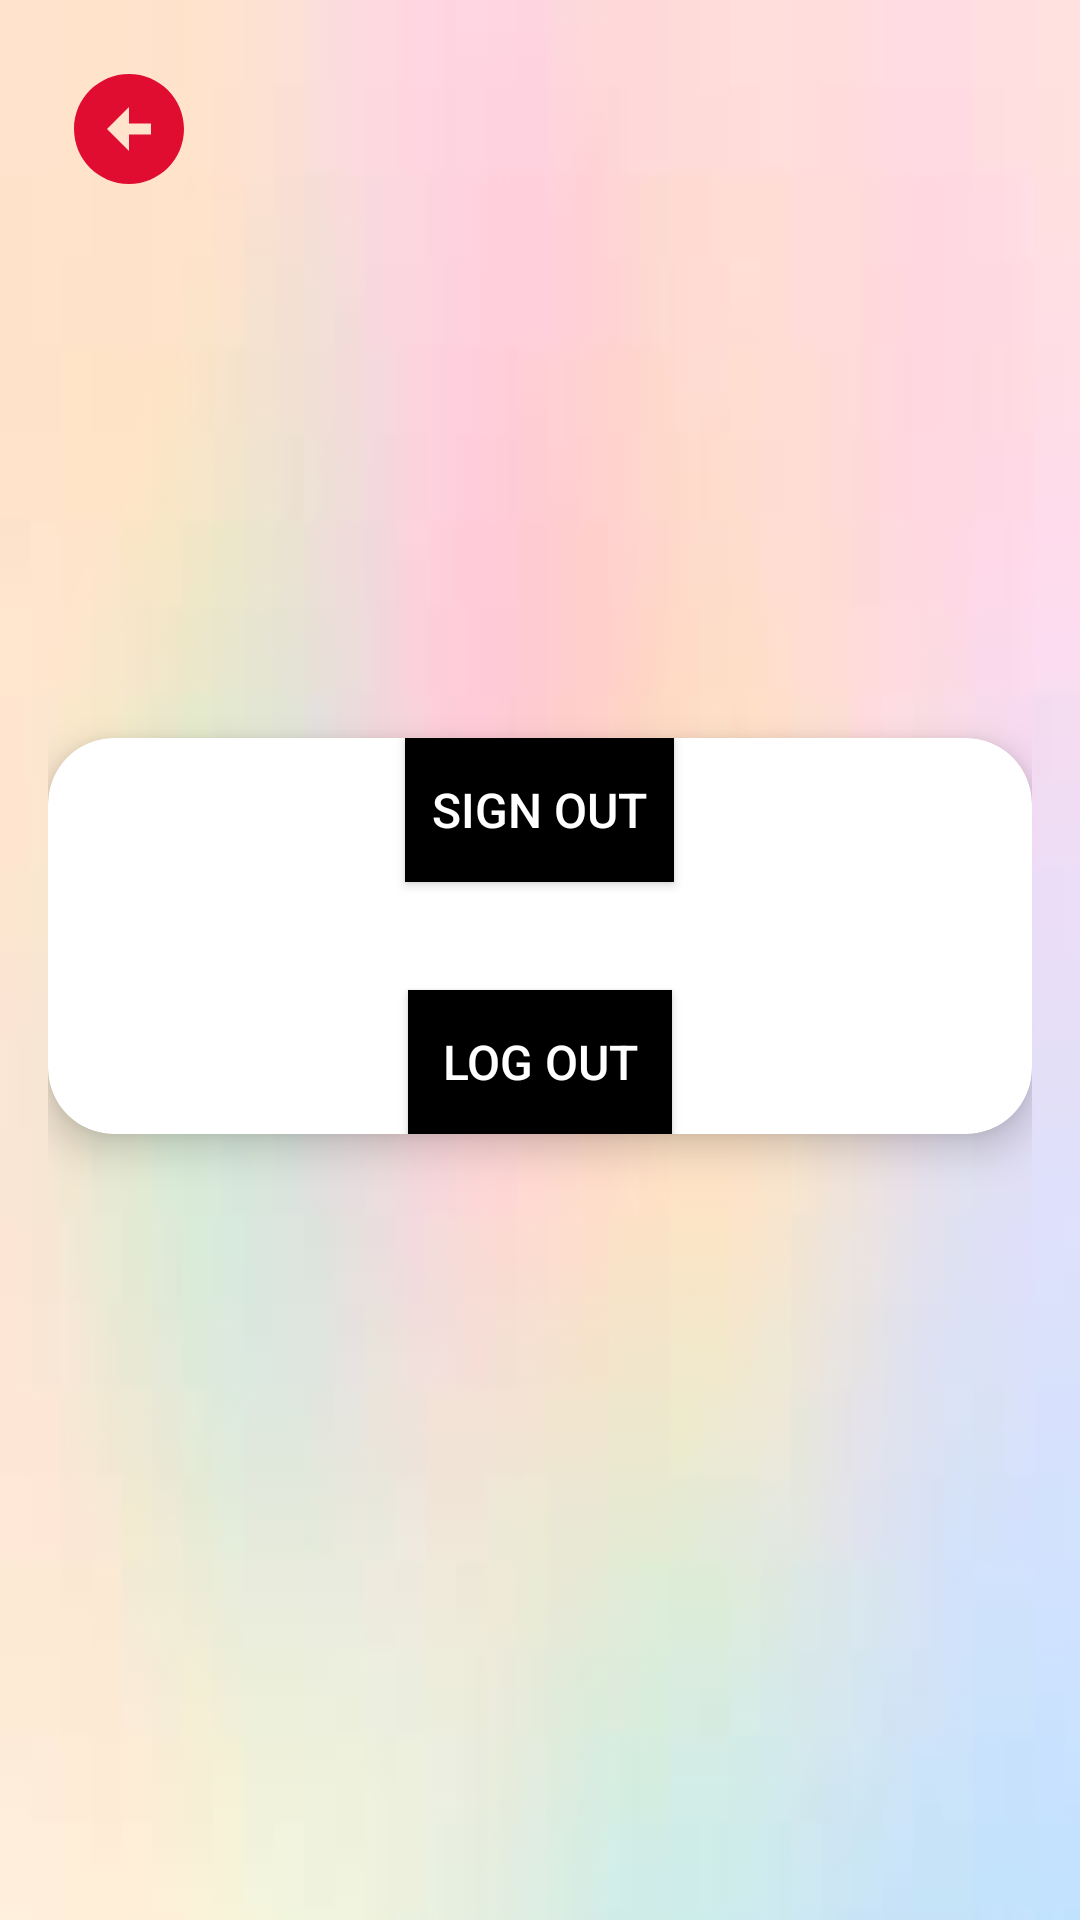

Icons on this 1080px x 1920px Android screen, each with its box as bbox=(x1, y1, x2, y2):
arrow circle left: bbox=(74, 74, 184, 184)
